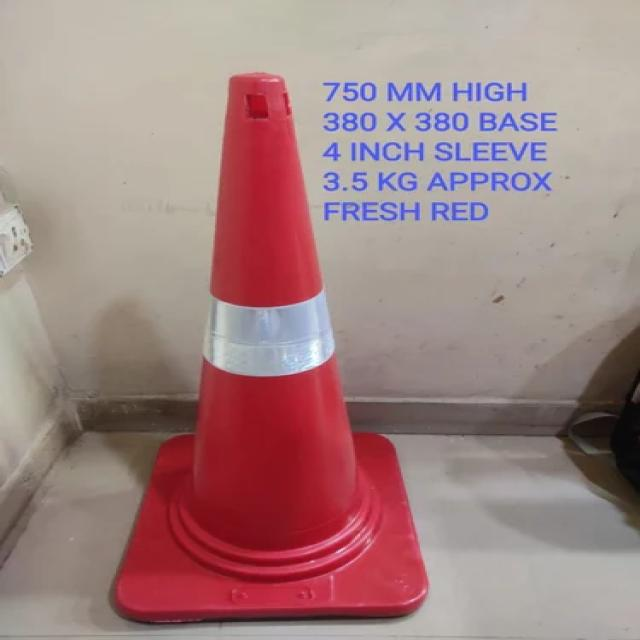Traffic Cone: (70, 61, 460, 638)
